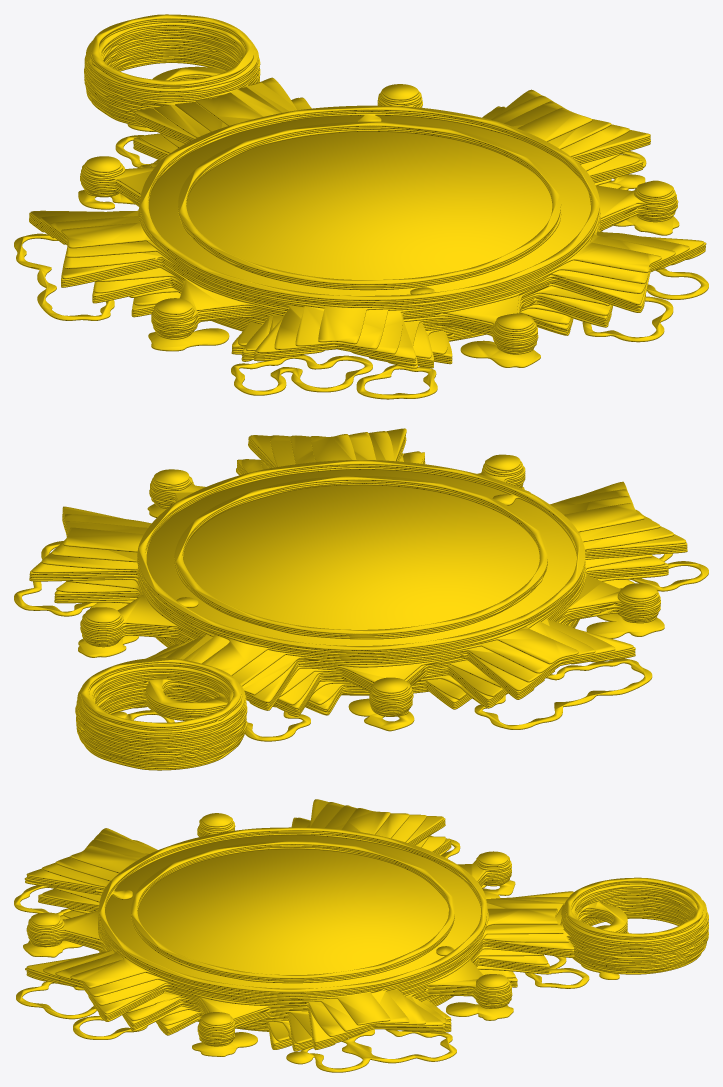
File: MedalofGheetan.glb
3 views of the same model, one above another, from view 1: azimuth 30°, elevation 25°; view 2: azimuth 150°, elevation 25°; view 3: azimuth 270°, elevation 25° (orthographic). The views are drawn at different scales.
Visible parts, largest first — view 1: ImageToStl.com_medal&bordforcortmount; view 2: ImageToStl.com_medal&bordforcortmount; view 3: ImageToStl.com_medal&bordforcortmount.
Boxes of the visible parts, left/top/right/bottom form: ImageToStl.com_medal&bordforcortmount: left=14, top=14, right=708, bottom=399; ImageToStl.com_medal&bordforcortmount: left=14, top=428, right=708, bottom=770; ImageToStl.com_medal&bordforcortmount: left=14, top=799, right=708, bottom=1072.
Size of the model in its own units: 39.12 by 3.3 by 45.82.
